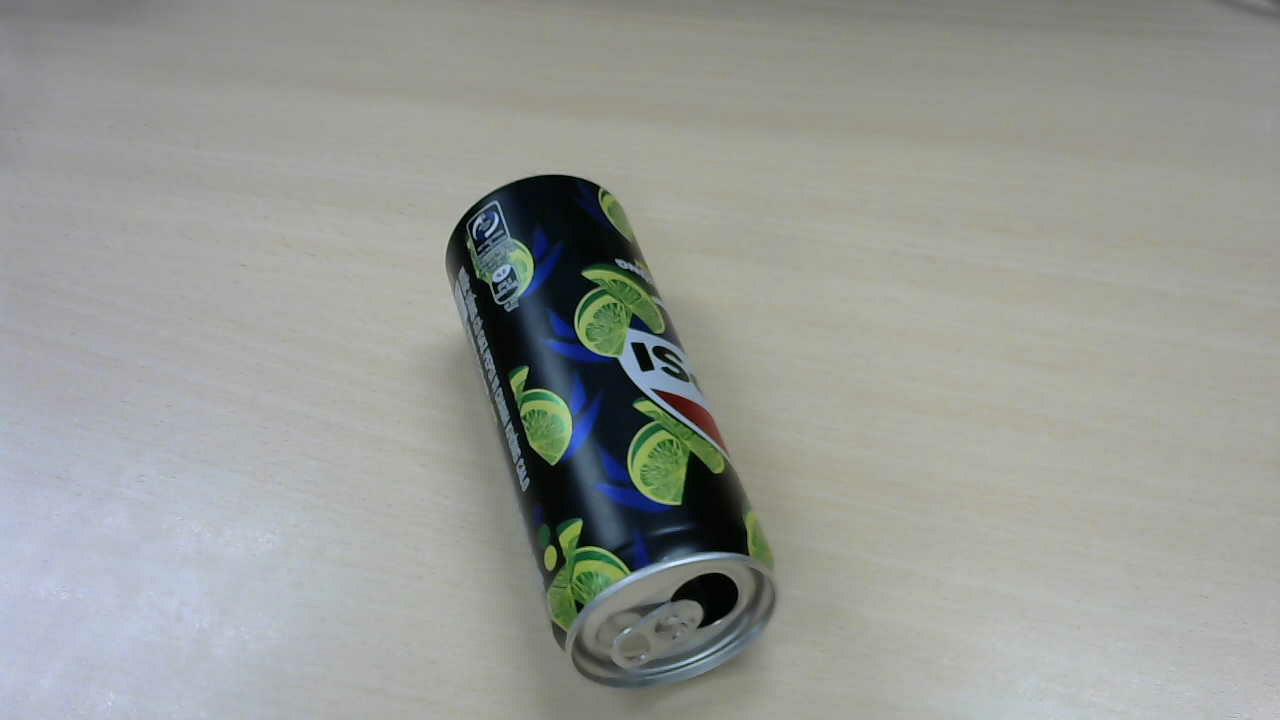Pepsi: (451, 178, 791, 689)
